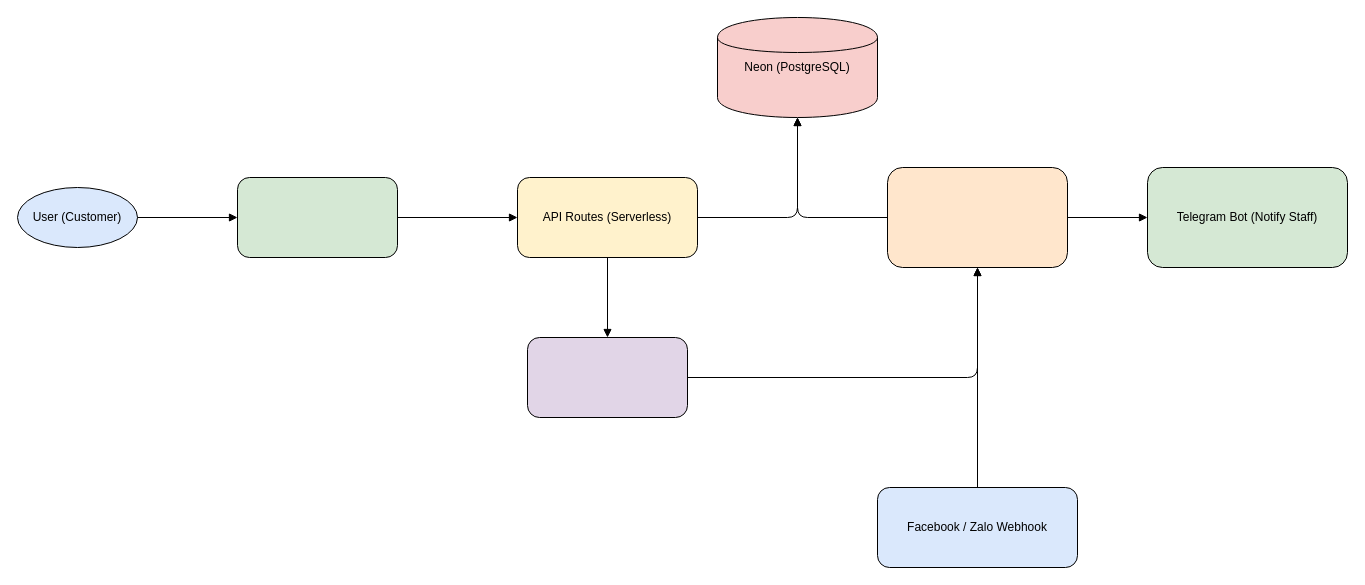
Image size: 1365x585. Some labels were removed from this diagram. The shapes that lost their labels are listed below. From the top down, each one's box as (x1, y1, x2, y2) in pixels, then its label:
(236, 176, 398, 258): Next.js (Vercel)
(886, 166, 1068, 268): Cloudflare Worker
(526, 336, 688, 418): Upstash (Redis Queue)
